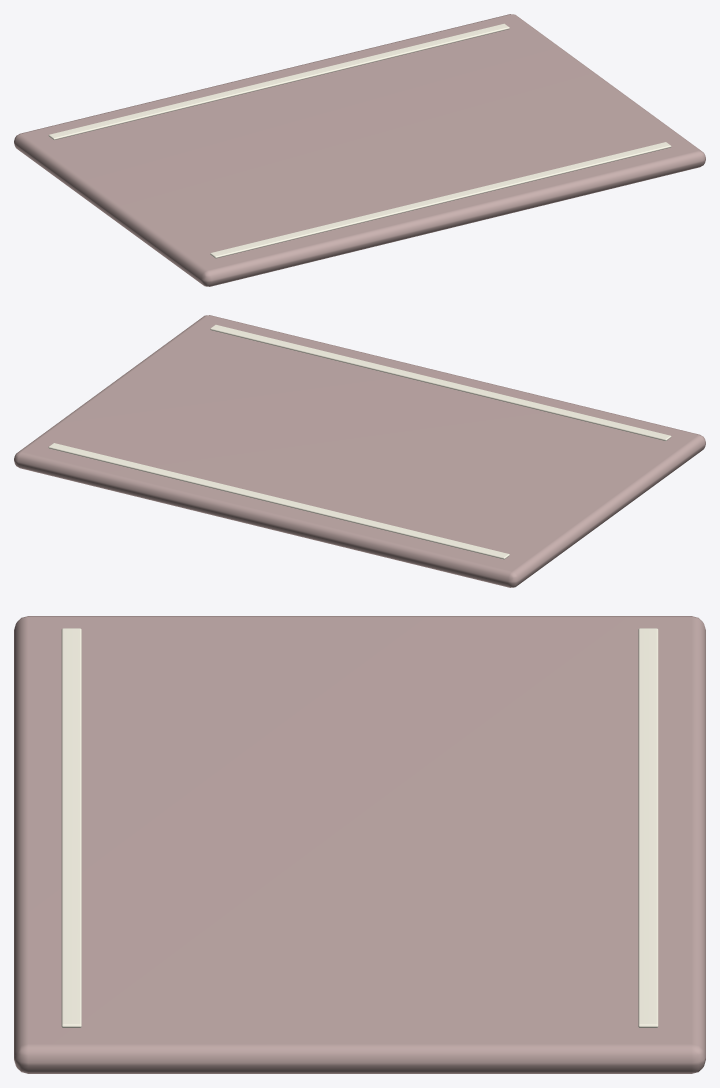
Rendered from bathroomBathCarpet.glb.
3 renders of one model, top to bottom at view 1: azimuth 30°, elevation 25°; view 2: azimuth 150°, elevation 25°; view 3: azimuth 270°, elevation 25°, orthographic. The views are drawn at different scales.
Visible parts, largest first — view 1: Rug, Rug border, Rug border.001; view 2: Rug, Rug border, Rug border.001; view 3: Rug, Rug border, Rug border.001.
Part boxes in pixels (x1=…): Rug: x1=14, y1=14, x2=705, y2=286; Rug border: x1=210, y1=142, x2=671, y2=258; Rug border.001: x1=48, y1=23, x2=509, y2=140; Rug: x1=14, y1=315, x2=705, y2=587; Rug border: x1=210, y1=324, x2=671, y2=441; Rug border.001: x1=48, y1=443, x2=509, y2=559; Rug: x1=14, y1=616, x2=705, y2=1073; Rug border: x1=61, y1=628, x2=81, y2=1027; Rug border.001: x1=638, y1=628, x2=658, y2=1027.
Bounding box in the file's own units: 1.8 × 0.063 × 1.2.
